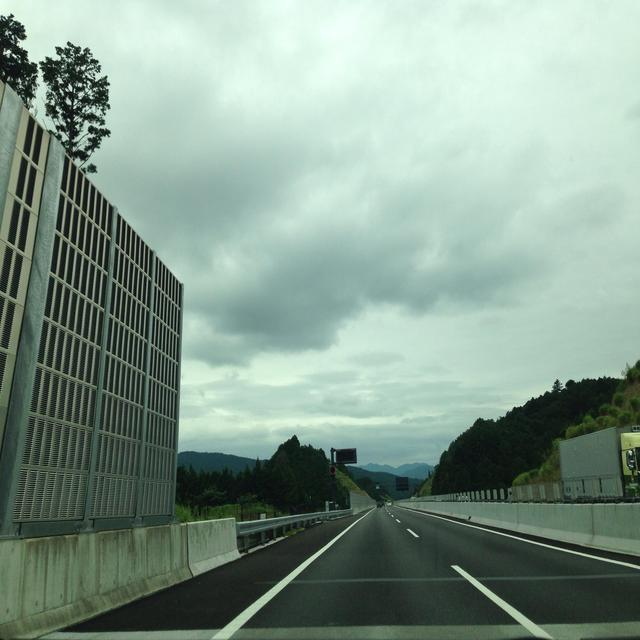Barrier: (0, 517, 240, 639), (352, 501, 639, 556)
Vegetation: (175, 434, 375, 523), (0, 13, 112, 165), (373, 489, 393, 503)
